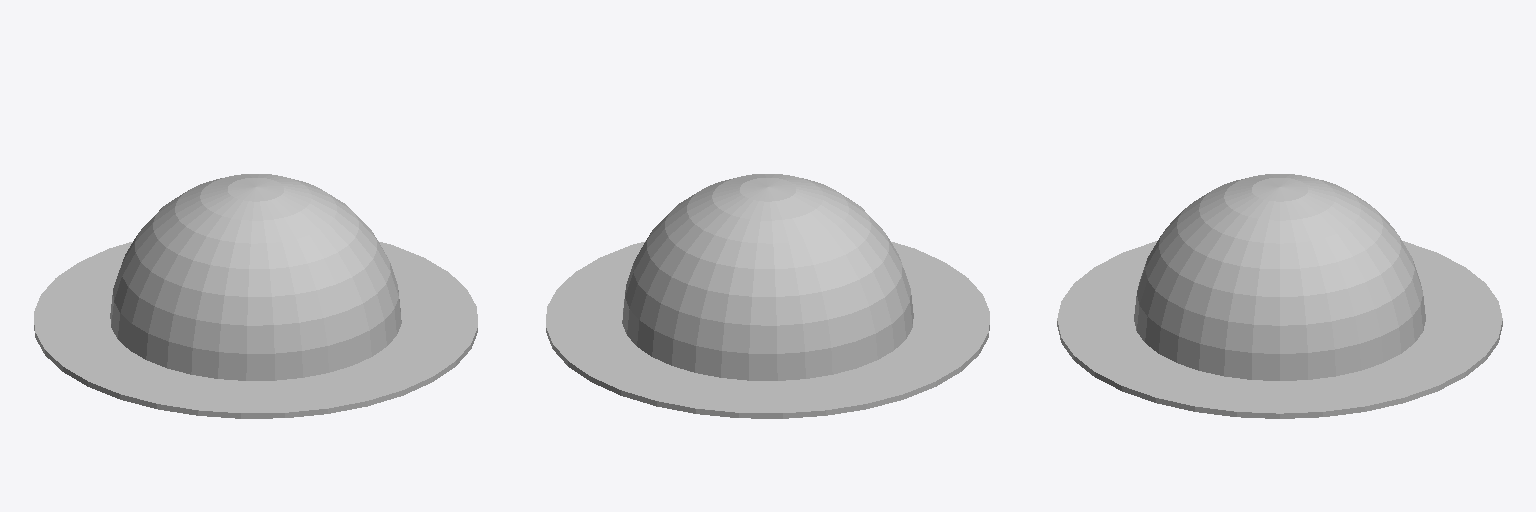
Rendered from anime_hat.obj.
3 views of the same model, side by side, from view 1: azimuth 30°, elevation 25°; view 2: azimuth 150°, elevation 25°; view 3: azimuth 270°, elevation 25° (orthographic).
Visible parts, largest first — view 1: Sphere; view 2: Sphere; view 3: Sphere.
Part boxes in pixels (x1,y1,x2,y2): Sphere: (34,174,477,418); Sphere: (546,174,989,418); Sphere: (1057,174,1502,418).
Size of the model in its own units: 26.81 by 9.15 by 26.81.